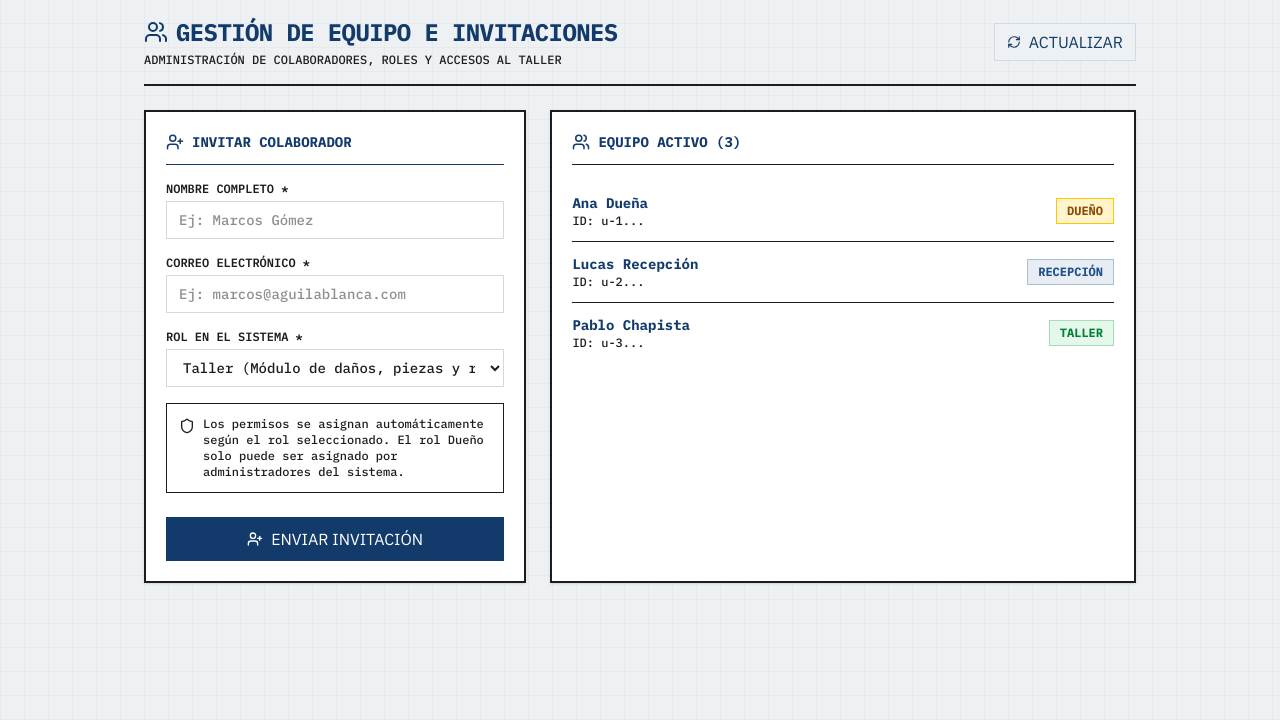
Test: InvitarPage › envía invitación exitosamente y limpia el formulario
Expected: the text "Ana Dueña" is shown, [572, 193, 648, 213]
Type "Nuevo Colaborador" into the field labelled "Nombre Completo *".
click(335, 220); type("Nuevo Colaborador")  # box [166, 201, 504, 239]
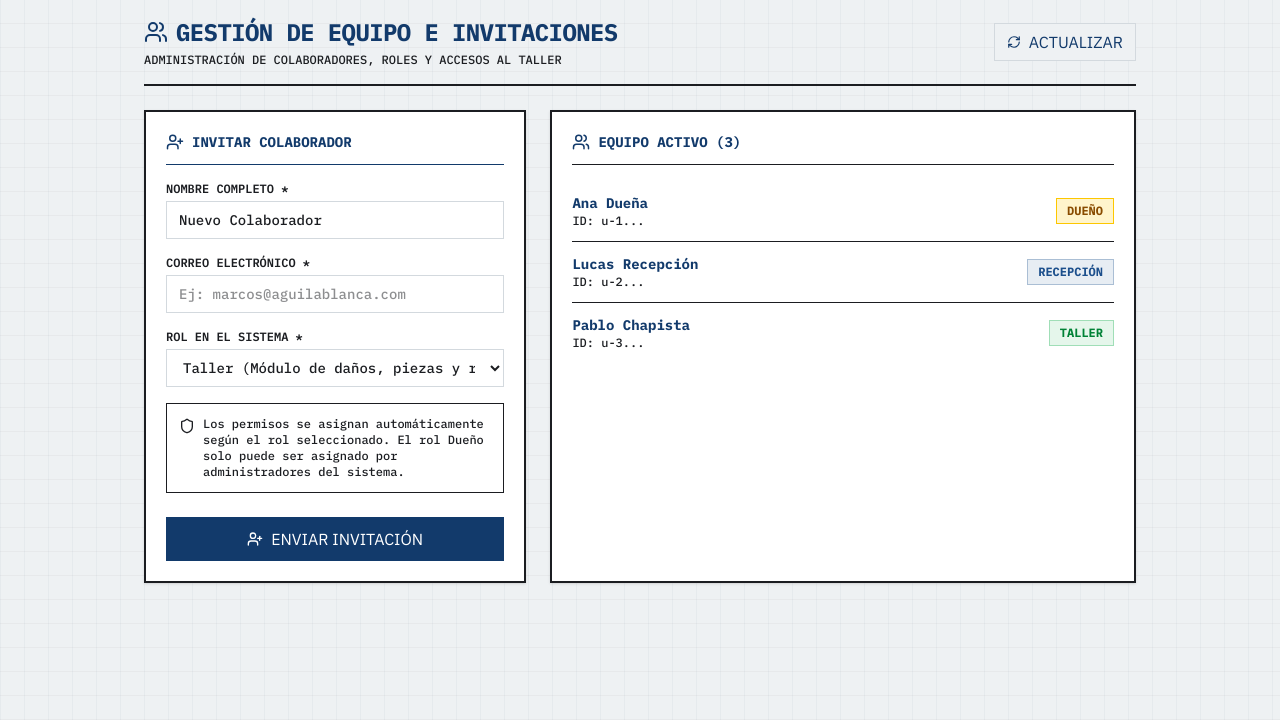
Type "nuevo@taller.com" into the field labelled "Correo Electrónico *".
click(335, 294); type("nuevo@taller.com")  # box [166, 275, 504, 313]
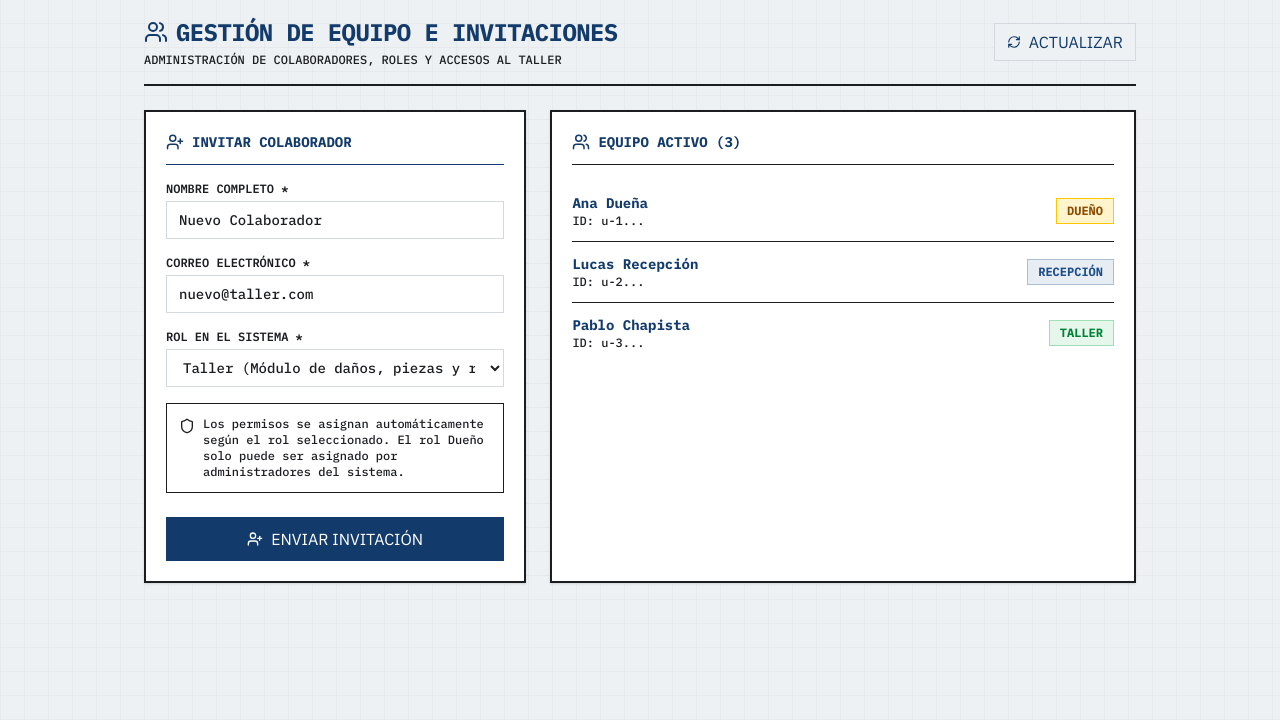
Select "Recepción (Ingreso, inspección, turnos y clientes)" in the dropdown labelled "Rol en el Sistema *" at (335, 368), box [166, 349, 504, 387]
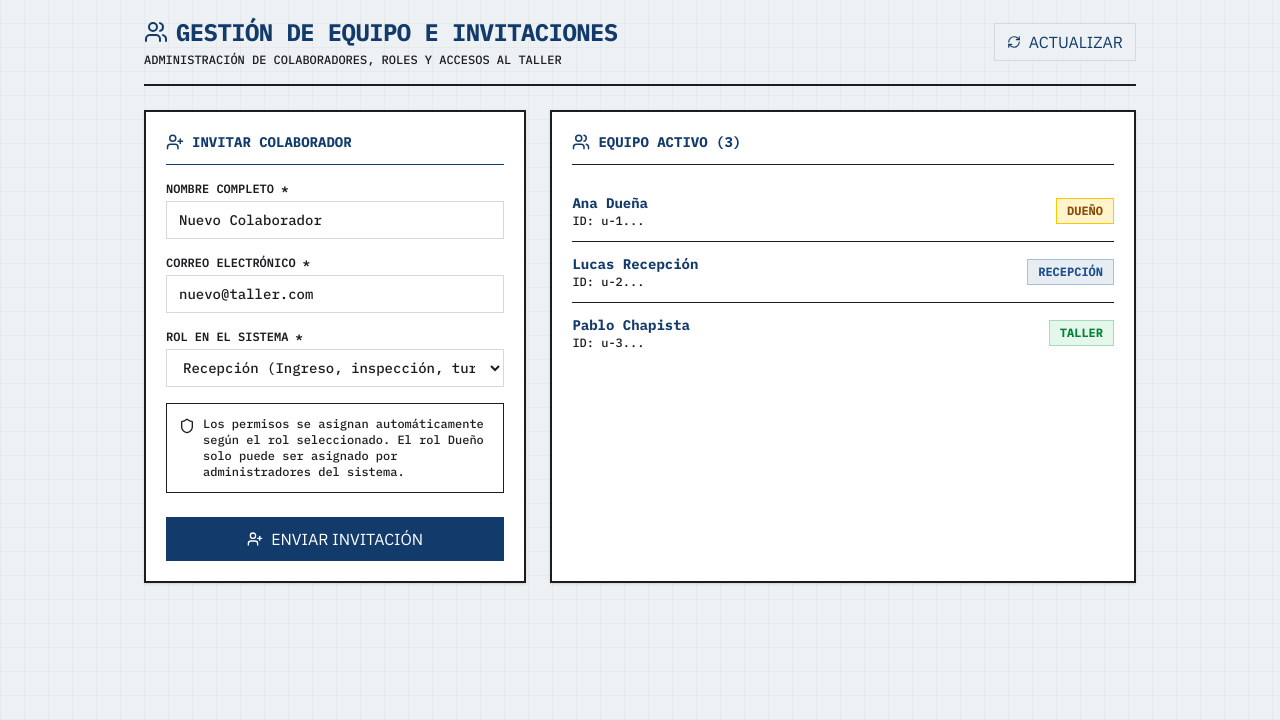
Click the button "Enviar Invitación".
click(335, 539)  # box [166, 517, 504, 561]
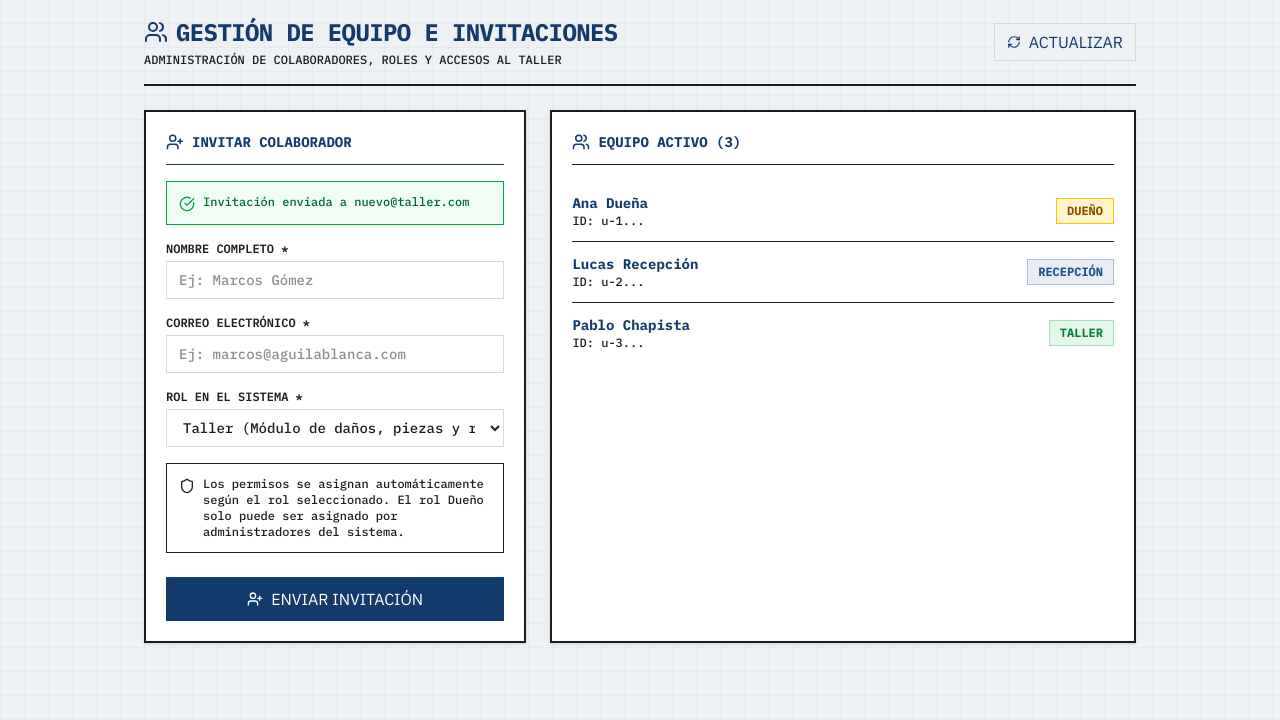
Expected: the text "Invitación enviada a nuevo@taller.com" is shown, [203, 194, 469, 210]
